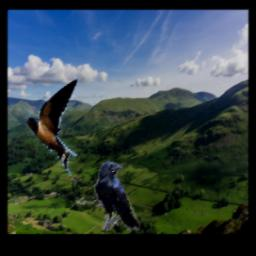Crow: (95, 160, 141, 231)
Swallow: (24, 79, 77, 178)
